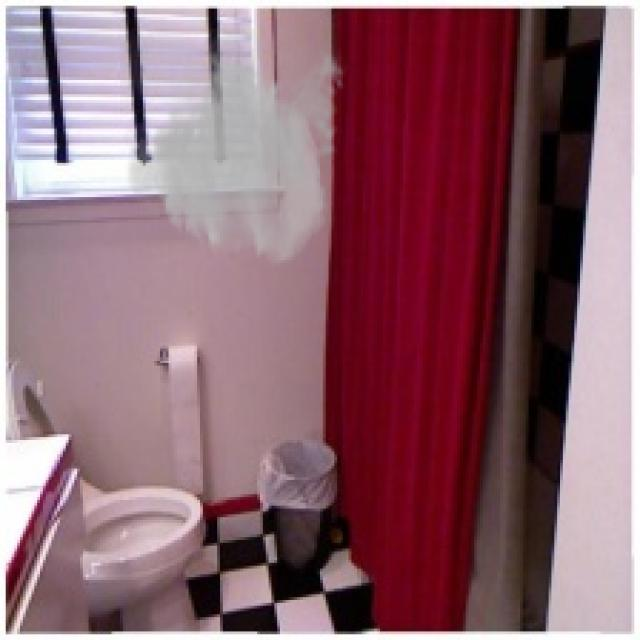smoke: (120, 28, 351, 268)
